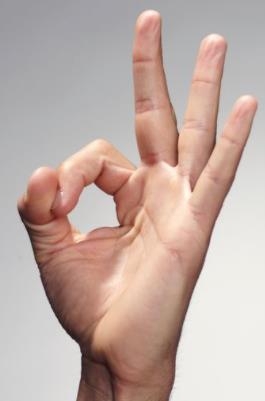left: (11, 6, 265, 363)
